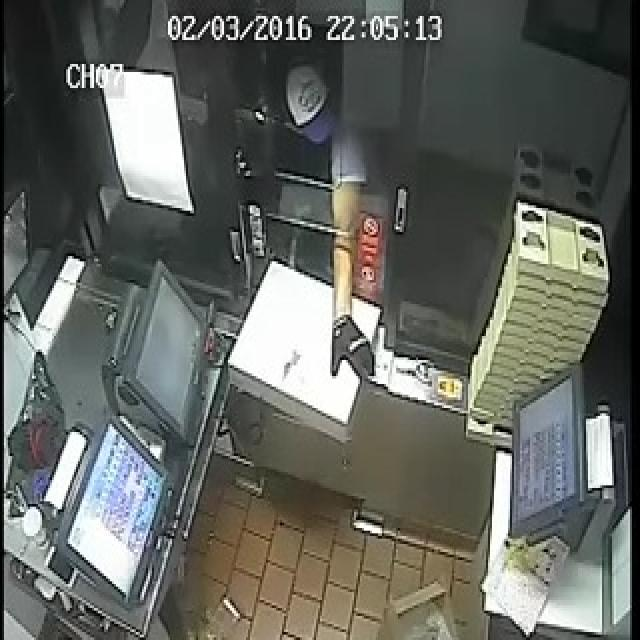thief: (272, 56, 369, 196)
